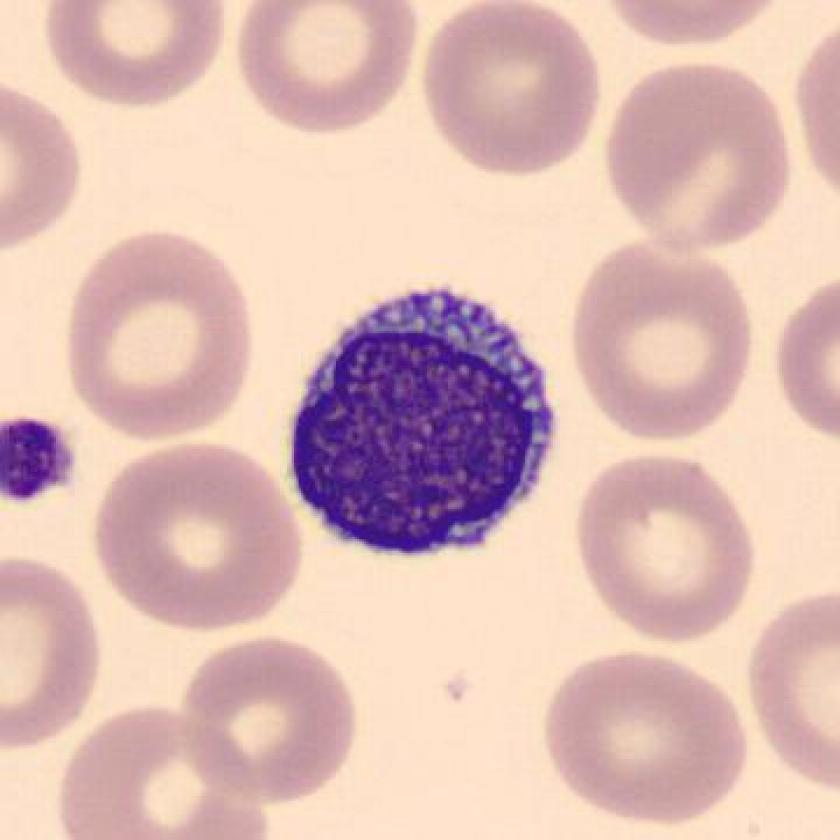lymphocyte: (267, 277, 575, 571)
platelets: (3, 414, 79, 506)
